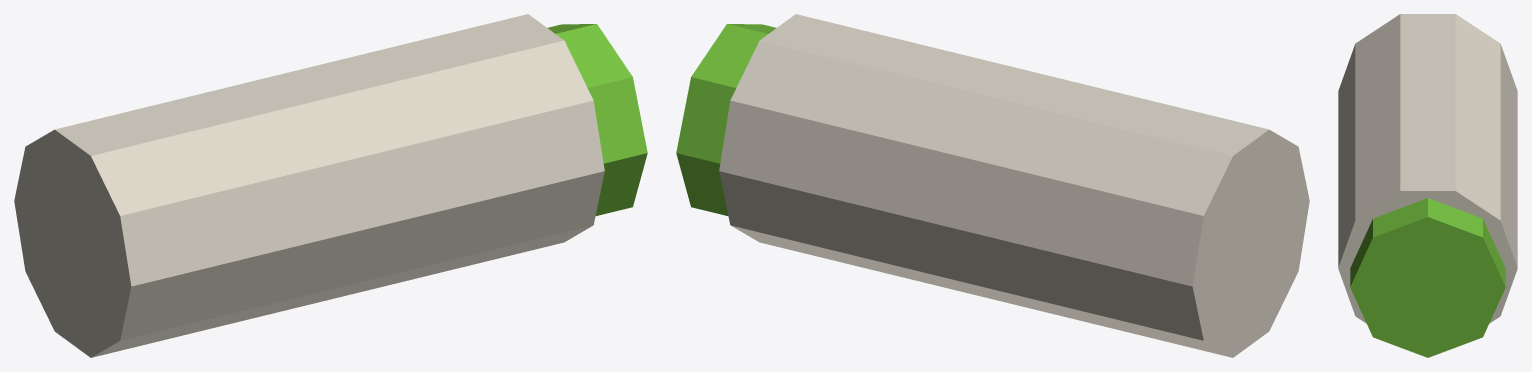
Rendered from burrito.glb.
3 renders of one model, left to right at view 1: azimuth 30°, elevation 25°; view 2: azimuth 150°, elevation 25°; view 3: azimuth 270°, elevation 25°, orthographic. The views are drawn at different scales.
Visible parts, largest first — view 1: burrito; view 2: burrito; view 3: burrito.
Boxes of the visible parts, <box> form: burrito: <box>14,14,647,357</box>; burrito: <box>676,14,1309,357</box>; burrito: <box>1338,14,1517,357</box>.
Size of the model in its own units: 0.155 by 0.0571 by 0.06.
